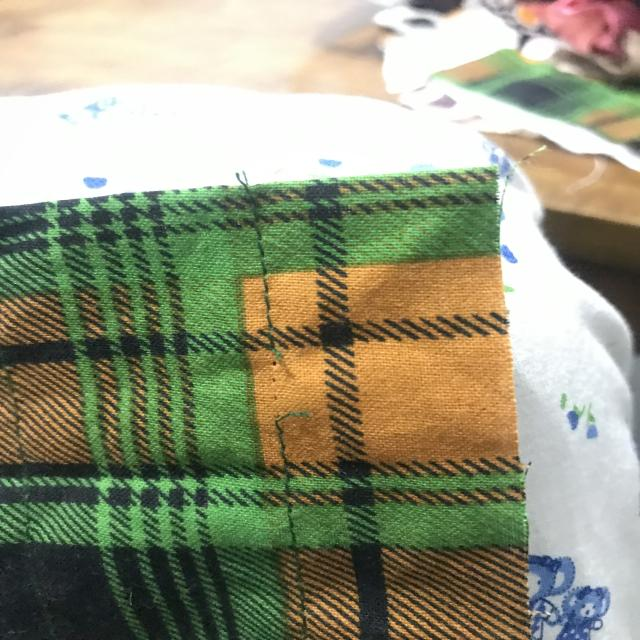broken: (245, 339, 313, 455)
good: (265, 481, 303, 551)
